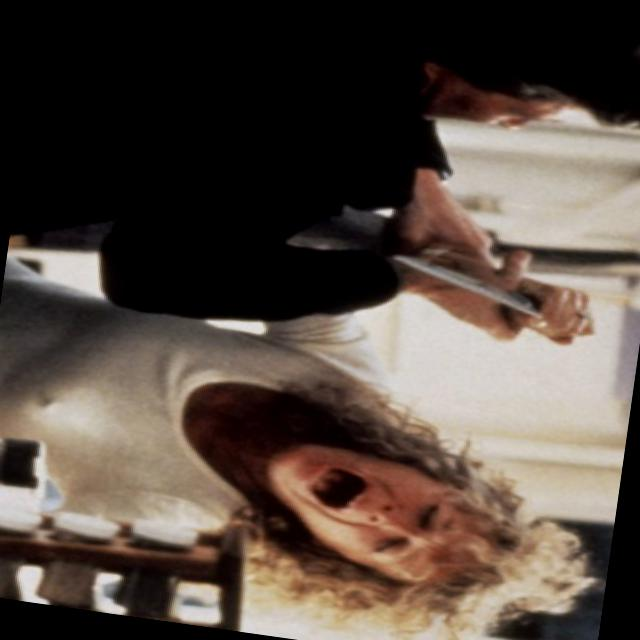knife: (375, 240, 609, 356)
